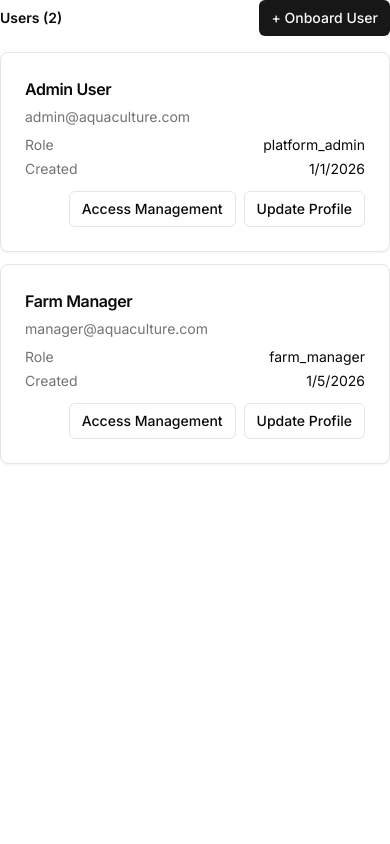
Test: Users — Access Management dialog routing › shows a load-error inside the dialog when the access fetch fails
The width and height of the screenshot is (390, 844).
Expected: the heading "Users (2)" is shown, [0,8,62,28]
Click the button "Access Management" below "1/1/2026": (152,209) [69,191,236,227]
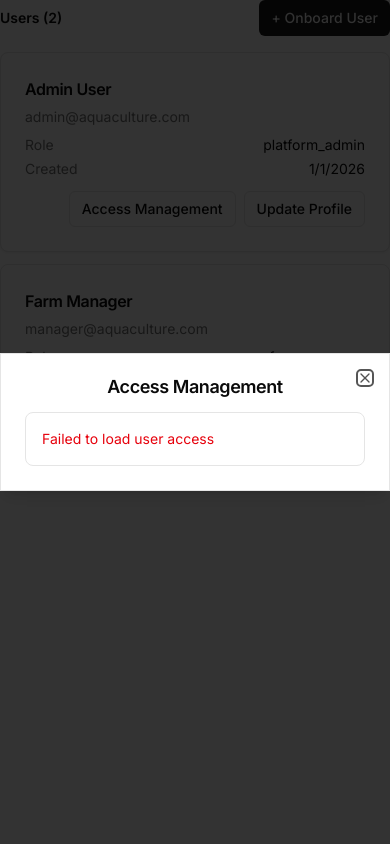
Expected: the text "Failed to load user access" is shown, [42,430,214,447]
